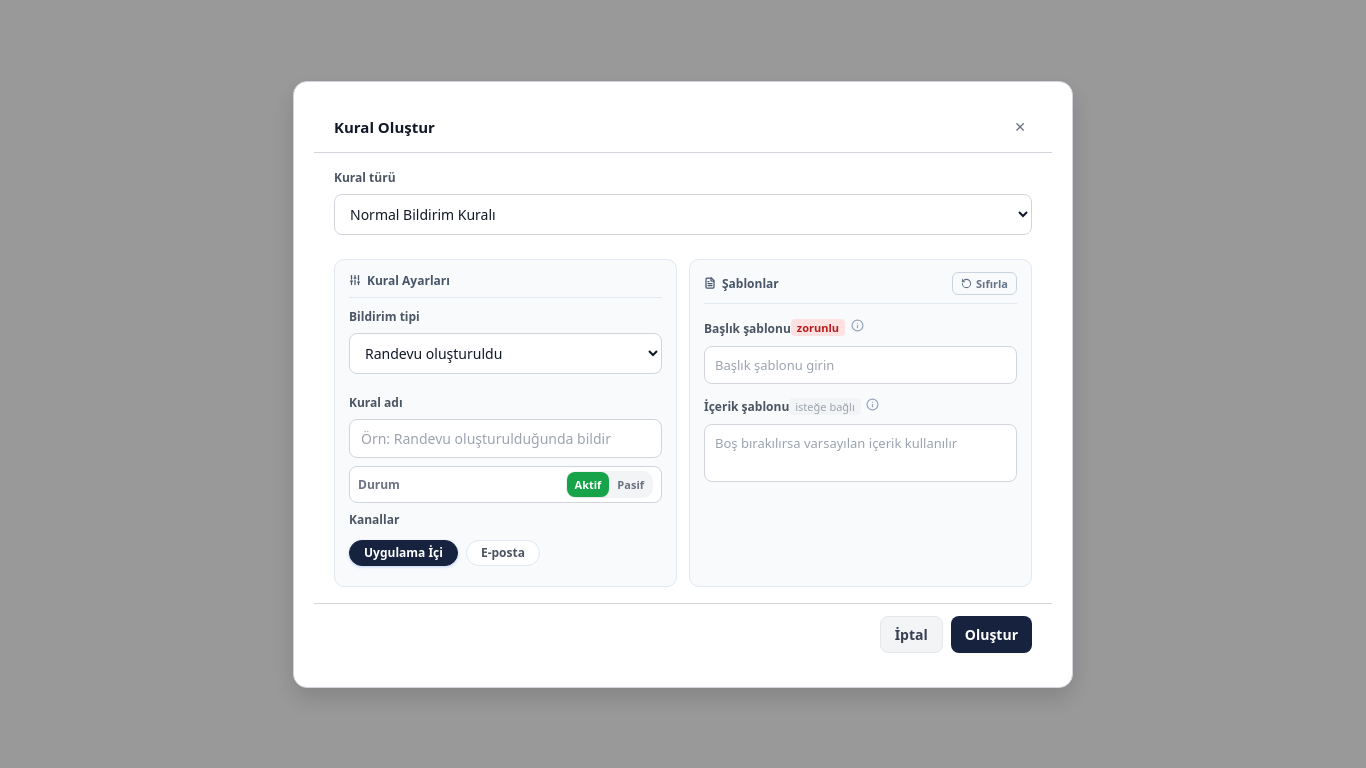
Test: NotificationRuleModal — Kural türü / Zamanlayıcı › switches to timer fields when Zamanlayıcı is selected
The width and height of the screenshot is (1366, 768).
Select "Zamanlayıcı (Hatırlatma) Kuralı" in the dropdown below "Kural türü": (683, 214) x1=334 y1=194 x2=1032 y2=234
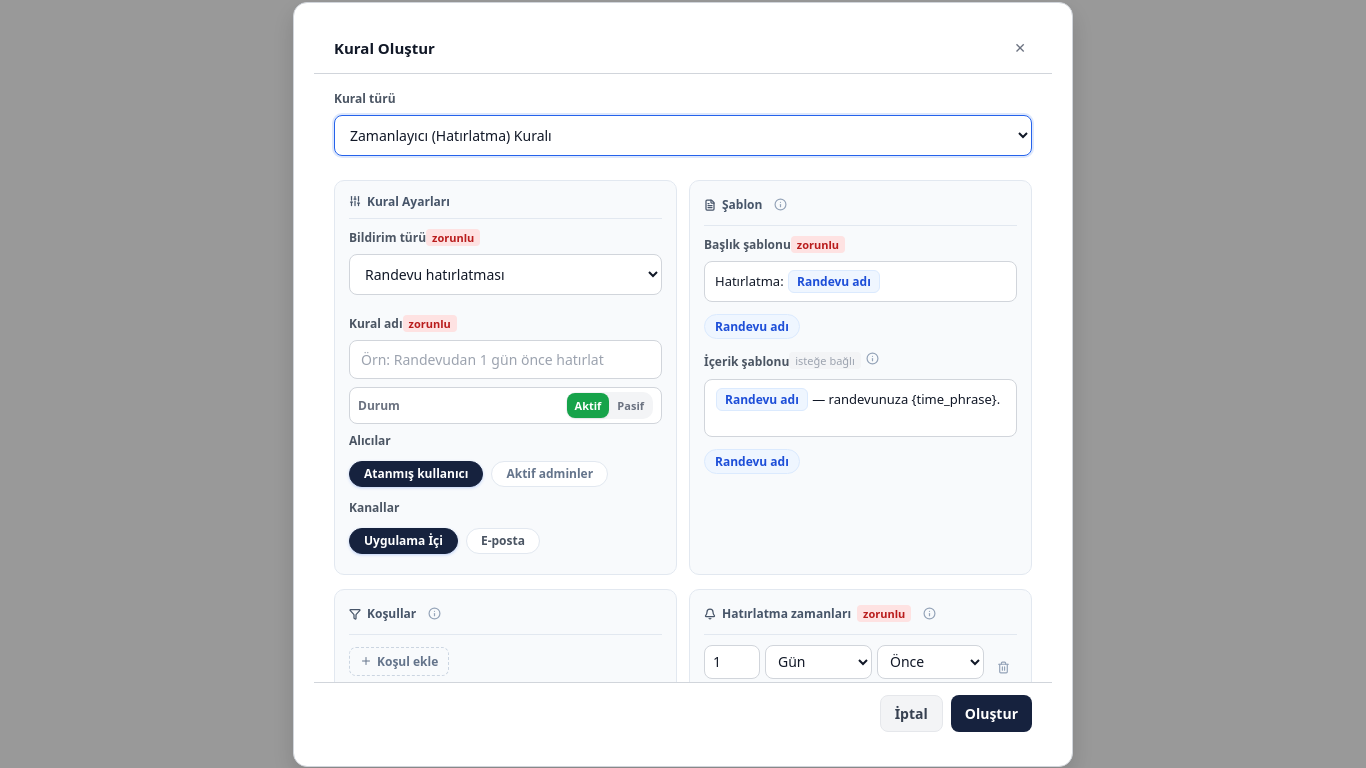
Check: the text "Koşullar" is shown, box x1=367 y1=605 x2=416 y2=622
Check: the text "Hatırlatma zamanları" is shown, box x1=722 y1=605 x2=851 y2=622
Check: the button with aria-label "Atanmış kullanıcıya gönder" is shown, box x1=349 y1=460 x2=483 y2=486
